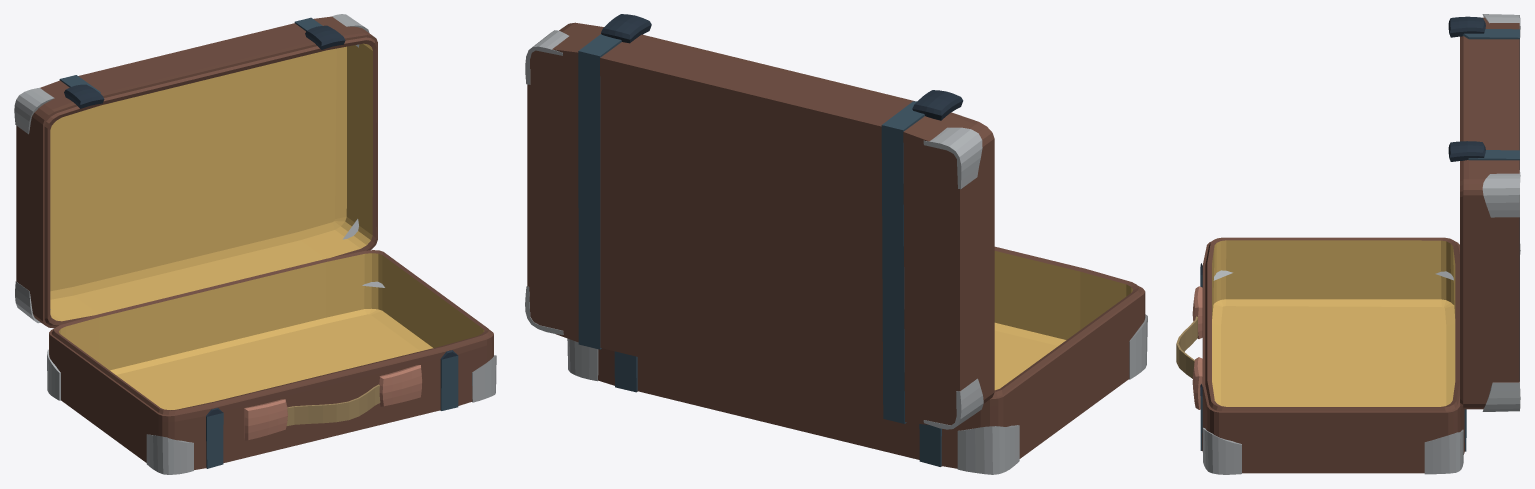
Rendered from Briefcase.fbx.
3 views of the same model, side by side, from view 1: azimuth 30°, elevation 25°; view 2: azimuth 150°, elevation 25°; view 3: azimuth 270°, elevation 25° (orthographic). The views are drawn at different scales.
Parts seen in each view (by area): view 1: Top, Bottom; view 2: Top, Bottom; view 3: Bottom, Top.
Boxes of the visible parts, x1,y1,x2,y2 form: Top: (14,14,377,328); Bottom: (47,250,496,474); Top: (525,14,994,429); Bottom: (567,246,1147,474); Bottom: (1176,237,1466,474); Top: (1448,14,1520,411).
Size of the model in its own units: 101 by 81.2 by 83.75.
